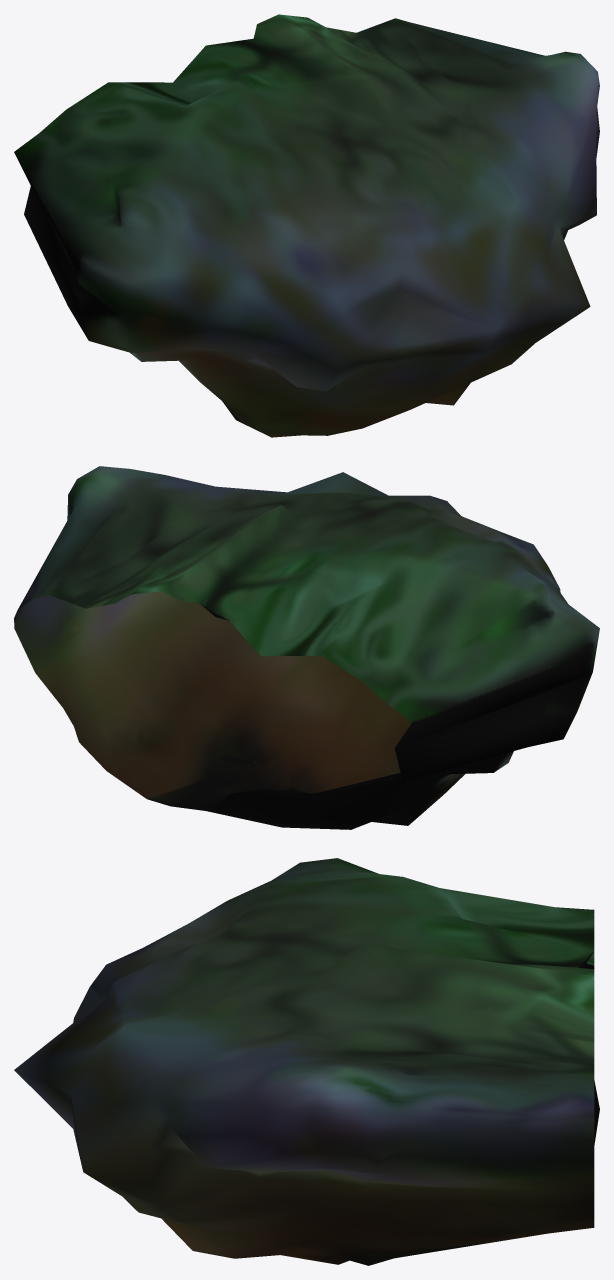
File: rock7.fbx
The picture shows the model from 3 angles, top to bottom: view 1: azimuth 30°, elevation 25°; view 2: azimuth 150°, elevation 25°; view 3: azimuth 270°, elevation 25°; orthographic projection. The views are drawn at different scales.
Parts seen in each view (by area): view 1: Sphere.004; view 2: Sphere.004; view 3: Sphere.004.
Boxes of the visible parts, x1,y1,x2,y2 form: Sphere.004: (14,14,599,437); Sphere.004: (14,466,599,829); Sphere.004: (14,858,599,1265).
Size of the model in its own units: 5097 by 2955 by 4482.
